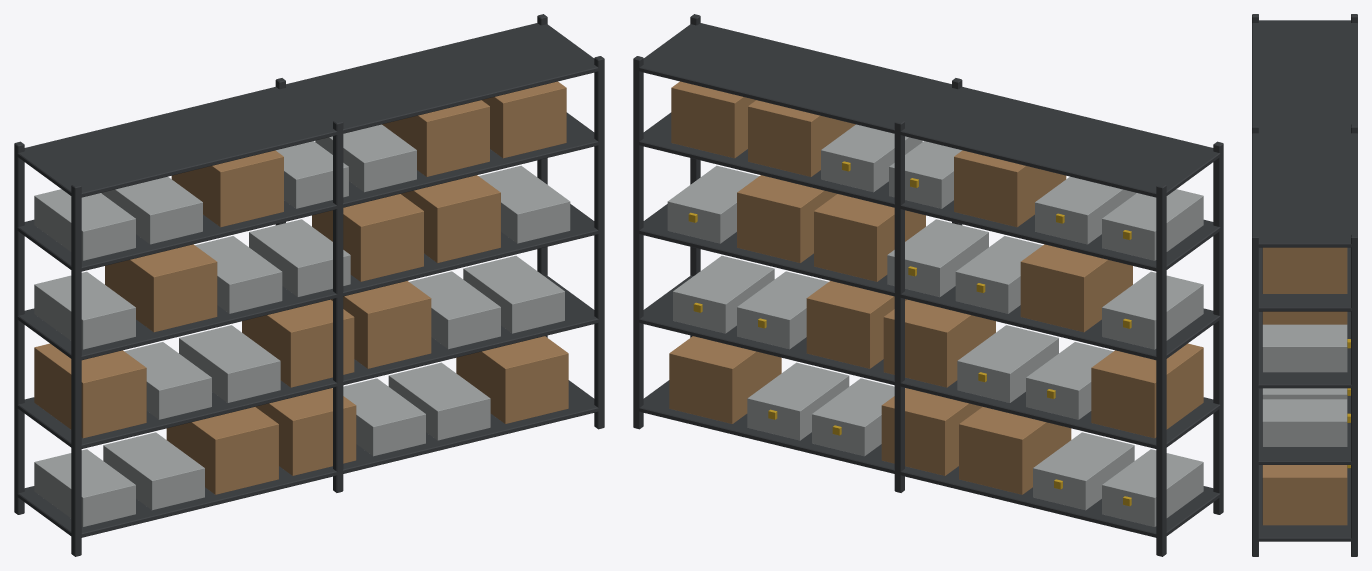
Rendered from prop_ah_private_shelving.glb.
3 views of the same model, side by side, from view 1: azimuth 30°, elevation 25°; view 2: azimuth 150°, elevation 25°; view 3: azimuth 270°, elevation 25° (orthographic). The views are drawn at different scales.
Parts seen in each view (by area): view 1: Body; view 2: Body; view 3: Body.
Part boxes in pixels (x1,y1,x2,y2): Body: (14,14,604,556); Body: (633,14,1223,556); Body: (1252,14,1357,556).
Size of the model in its own units: 3 by 2 by 0.6.
